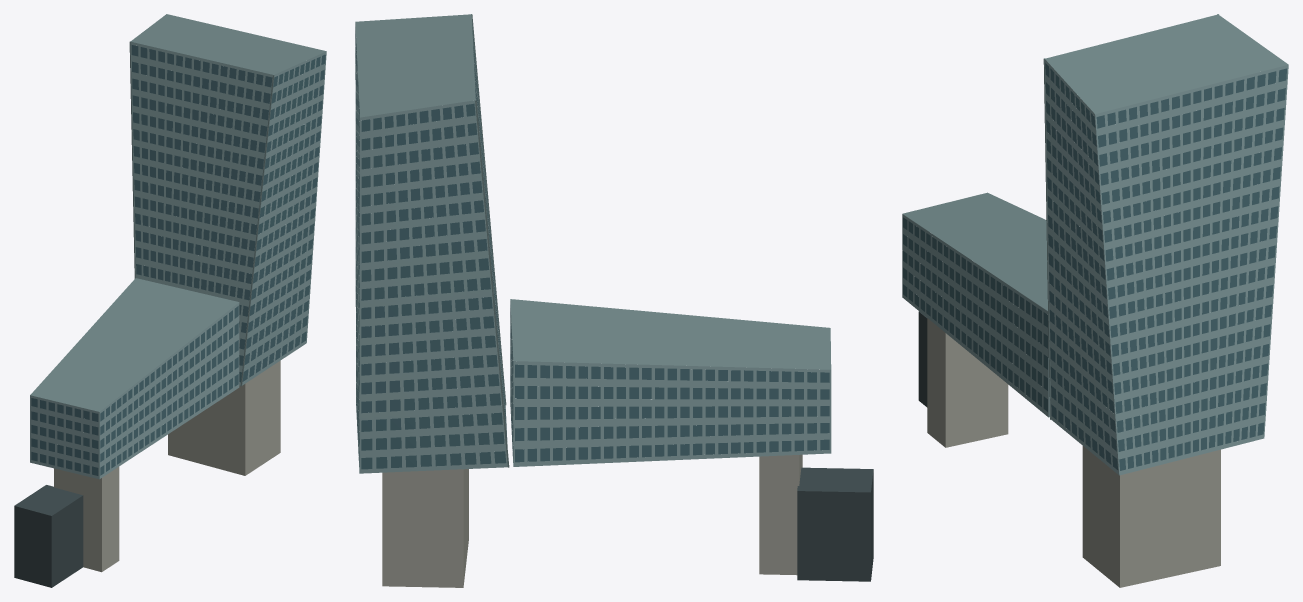
Rendered from tour-de-lille-near.glb.
3 renders of one model, left to right at view 1: azimuth 30°, elevation 25°; view 2: azimuth 150°, elevation 25°; view 3: azimuth 270°, elevation 25°, orthographic. The views are drawn at different scales.
Visible parts, largest first — view 1: tour-de-lille-0-panel, tour-de-lille-0-glass, tour-de-lille-0-metal, tour-de-lille-0-concrete, tour-de-lille-0-shadow; view 2: tour-de-lille-0-panel, tour-de-lille-0-glass, tour-de-lille-0-metal, tour-de-lille-0-concrete, tour-de-lille-0-shadow; view 3: tour-de-lille-0-panel, tour-de-lille-0-glass, tour-de-lille-0-concrete, tour-de-lille-0-metal, tour-de-lille-0-shadow.
Boxes of the visible parts, <box> form: tour-de-lille-0-panel: <box>30,42,326,479</box>; tour-de-lille-0-glass: <box>31,45,325,475</box>; tour-de-lille-0-metal: <box>30,14,326,411</box>; tour-de-lille-0-concrete: <box>54,360,280,572</box>; tour-de-lille-0-shadow: <box>14,485,83,587</box>; tour-de-lille-0-panel: <box>355,16,831,473</box>; tour-de-lille-0-glass: <box>355,20,829,469</box>; tour-de-lille-0-metal: <box>355,14,831,467</box>; tour-de-lille-0-concrete: <box>382,454,802,587</box>; tour-de-lille-0-shadow: <box>797,467,873,581</box>; tour-de-lille-0-panel: <box>902,59,1288,475</box>; tour-de-lille-0-glass: <box>903,63,1286,470</box>; tour-de-lille-0-concrete: <box>927,318,1220,587</box>; tour-de-lille-0-metal: <box>902,14,1288,419</box>; tour-de-lille-0-shadow: <box>918,311,927,407</box>.
Size of the model in its own units: 84.74 by 91.02 by 62.92.
